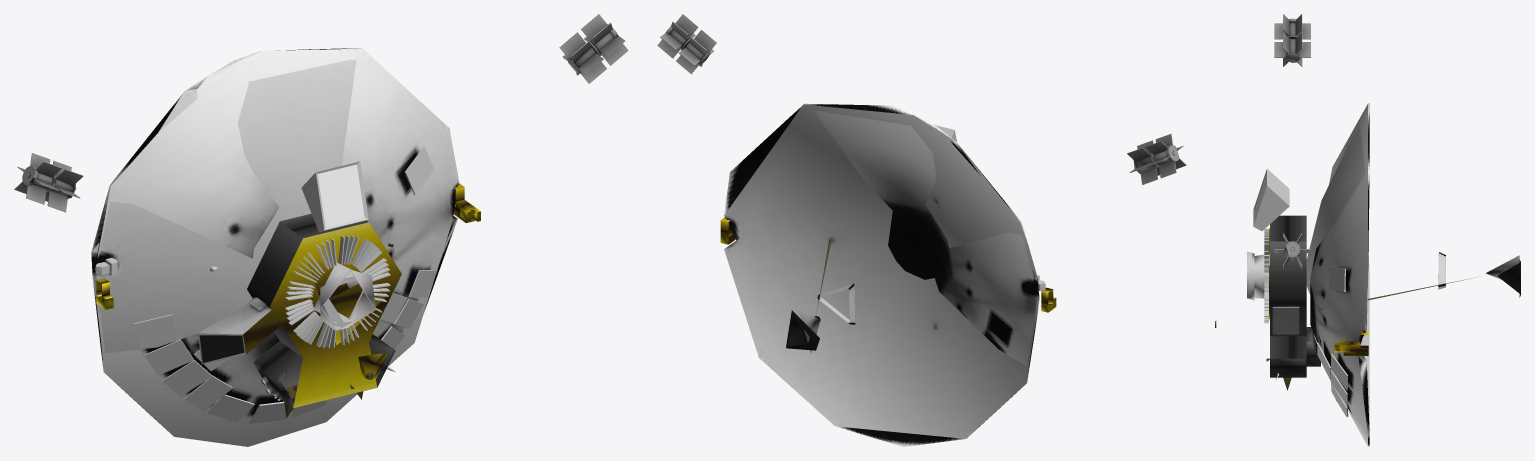
File: pioneer10.glb
3 renders of one model, left to right at view 1: azimuth 30°, elevation 25°; view 2: azimuth 150°, elevation 25°; view 3: azimuth 270°, elevation 25°, orthographic. The views are drawn at different scales.
Parts seen in each view (by area): view 1: AO_dish, Norm_silver, Foil_gold, Foil_silver, AO_rtg, Foil_trans, AO_other, Tex_black; view 2: AO_dish, AO_rtg, Tex_black, Foil_gold, AO_other; view 3: AO_dish, Foil_silver, Norm_silver, AO_rtg, Tex_01, Foil_gold, Tex_black.
Part boxes in pixels (x1,y1,x2,y2): AO_dish: [91, 48, 458, 446]; Norm_silver: [95, 146, 437, 423]; Foil_gold: [96, 183, 480, 407]; Foil_silver: [247, 213, 399, 408]; AO_rtg: [14, 14, 628, 212]; Foil_trans: [317, 164, 364, 227]; AO_other: [198, 297, 271, 364]; Tex_black: [199, 335, 244, 362]; AO_dish: [724, 103, 1039, 446]; AO_rtg: [657, 14, 1186, 184]; Tex_black: [786, 310, 819, 350]; Foil_gold: [720, 217, 1056, 312]; AO_other: [815, 284, 855, 324]; AO_dish: [1306, 103, 1519, 446]; Foil_silver: [1270, 215, 1320, 377]; Norm_silver: [1247, 169, 1348, 417]; AO_rtg: [1274, 14, 1310, 269]; Tex_01: [1272, 307, 1299, 334]; Foil_gold: [1269, 228, 1368, 355]; Tex_black: [1497, 260, 1520, 297].
Bounding box in the file's own units: 4.52 × 2.81 × 2.5.
Materials: 10 (8 with a texture image).
